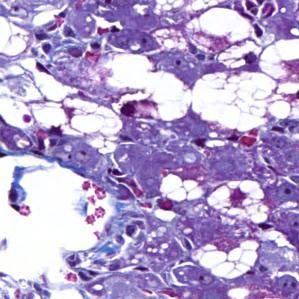ballooning: (190, 67, 277, 134), (183, 7, 264, 70), (187, 234, 263, 282), (207, 177, 273, 229)
